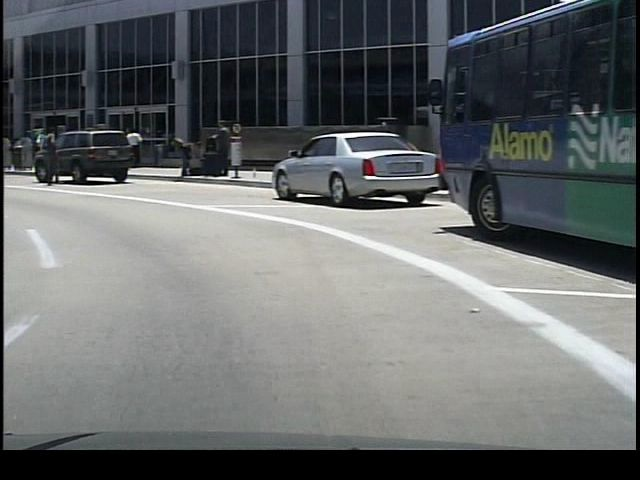person: (37, 117, 66, 194), (169, 131, 198, 185), (207, 120, 227, 179), (120, 126, 142, 169)
